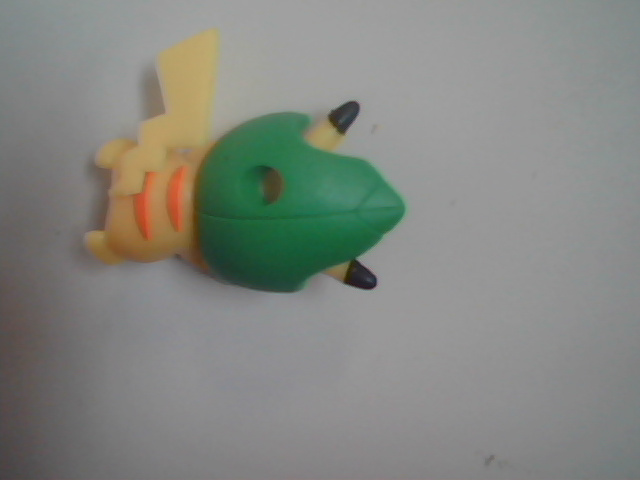pikachu: (49, 17, 422, 385)
